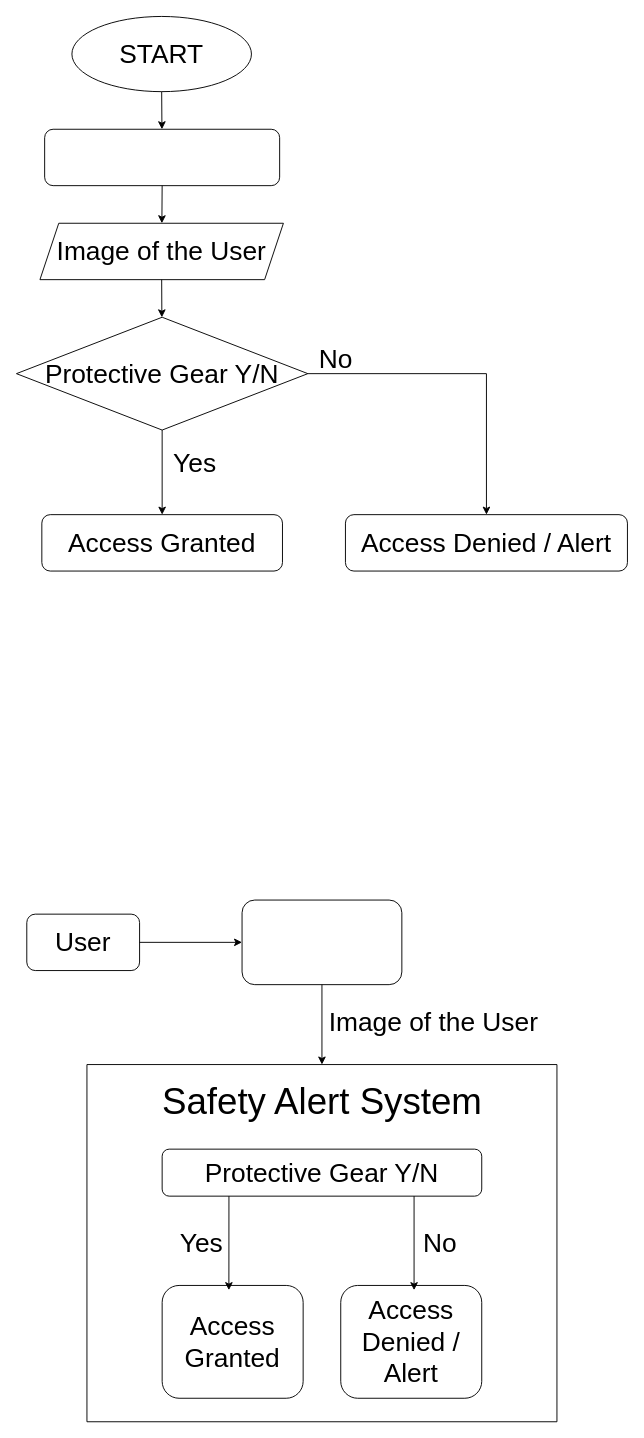
Image size: 644x1438. Some labels were removed from this diagram. The centre of each missing label's shape, as x and y in pixels:
Camera: (x=321, y=942)
Camera Analysis: (x=162, y=157)
